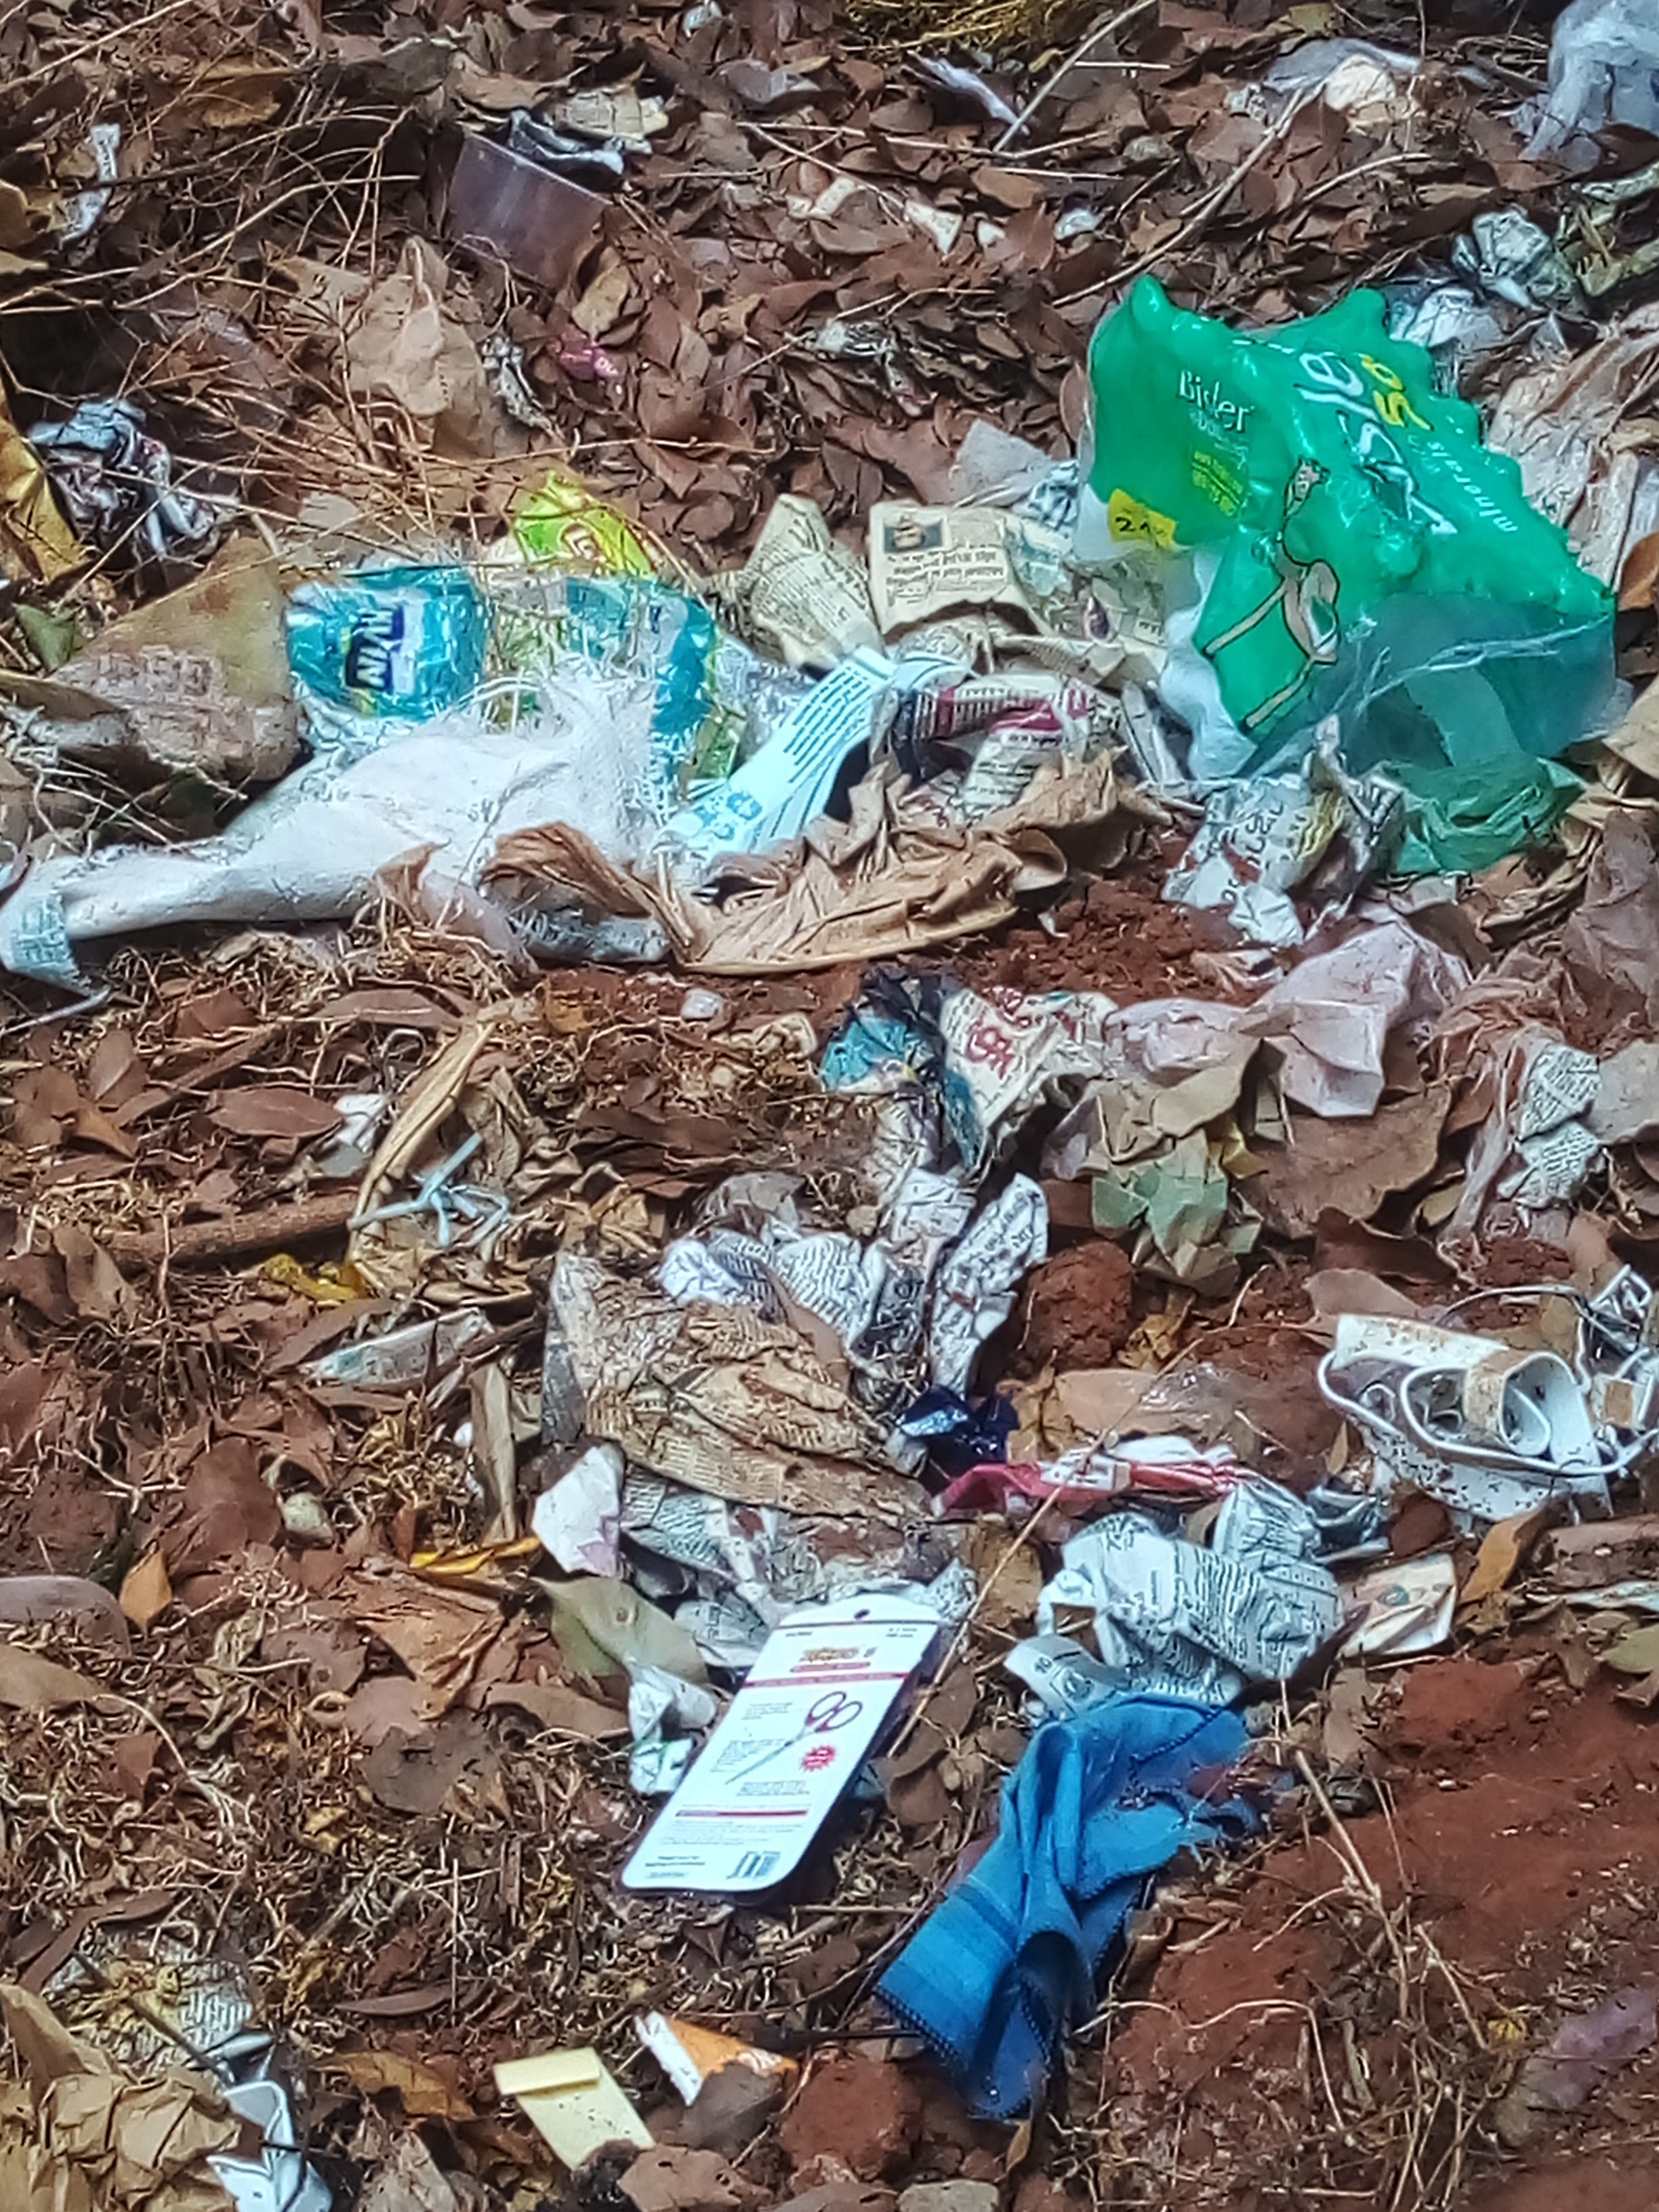pbag: (1073, 270, 1626, 859), (286, 583, 756, 808)
